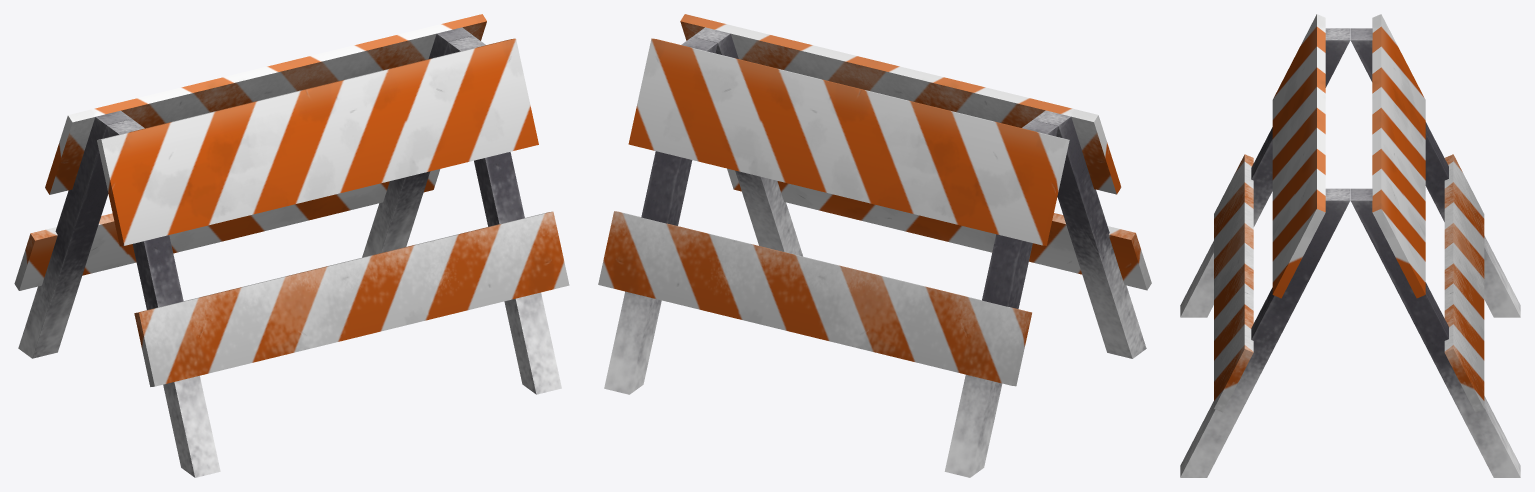
The model's file is barrier.fbx.
3 views of the same model, side by side, from view 1: azimuth 30°, elevation 25°; view 2: azimuth 150°, elevation 25°; view 3: azimuth 270°, elevation 25° (orthographic). The views are drawn at different scales.
Parts seen in each view (by area): view 1: barrier; view 2: barrier; view 3: barrier.
Part boxes in pixels (bbox=[...]): barrier: bbox=[14, 14, 569, 477]; barrier: bbox=[598, 14, 1151, 477]; barrier: bbox=[1180, 14, 1520, 477].
Size of the model in its own units: 3.94 by 2.65 by 2.91.
